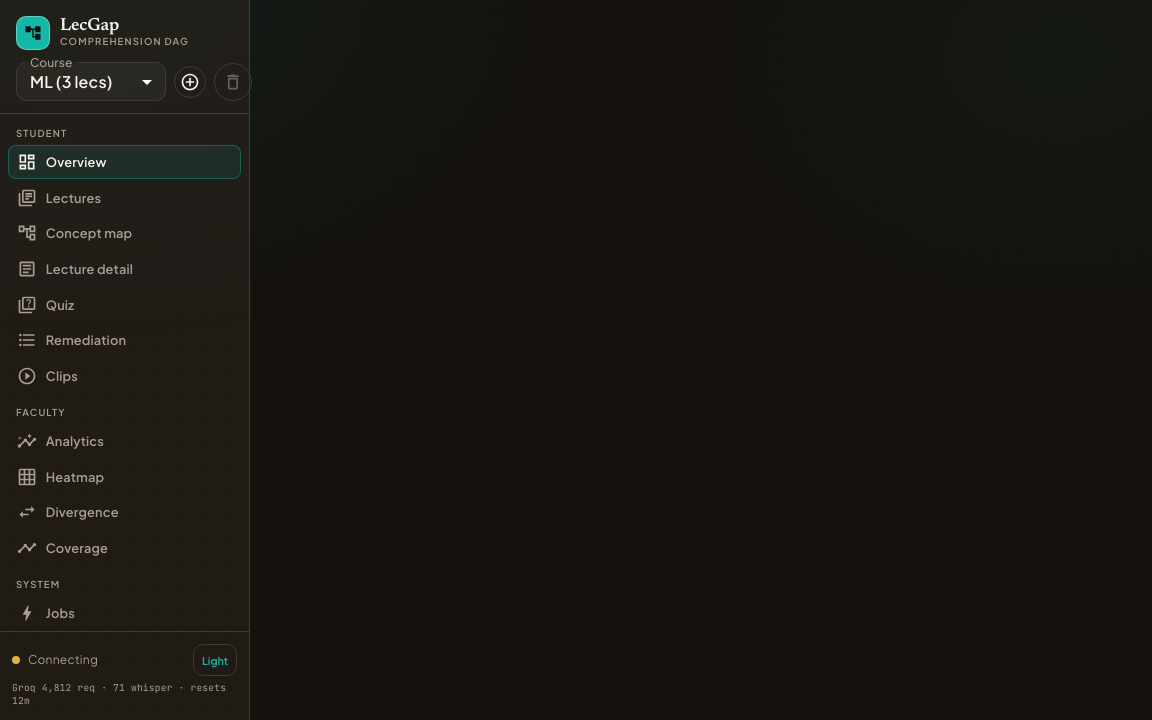
it: Sidebar › toggles the theme base from the footer
Click the button with aria-label "Switch to light theme": x=215, y=660 [193,644,237,676]
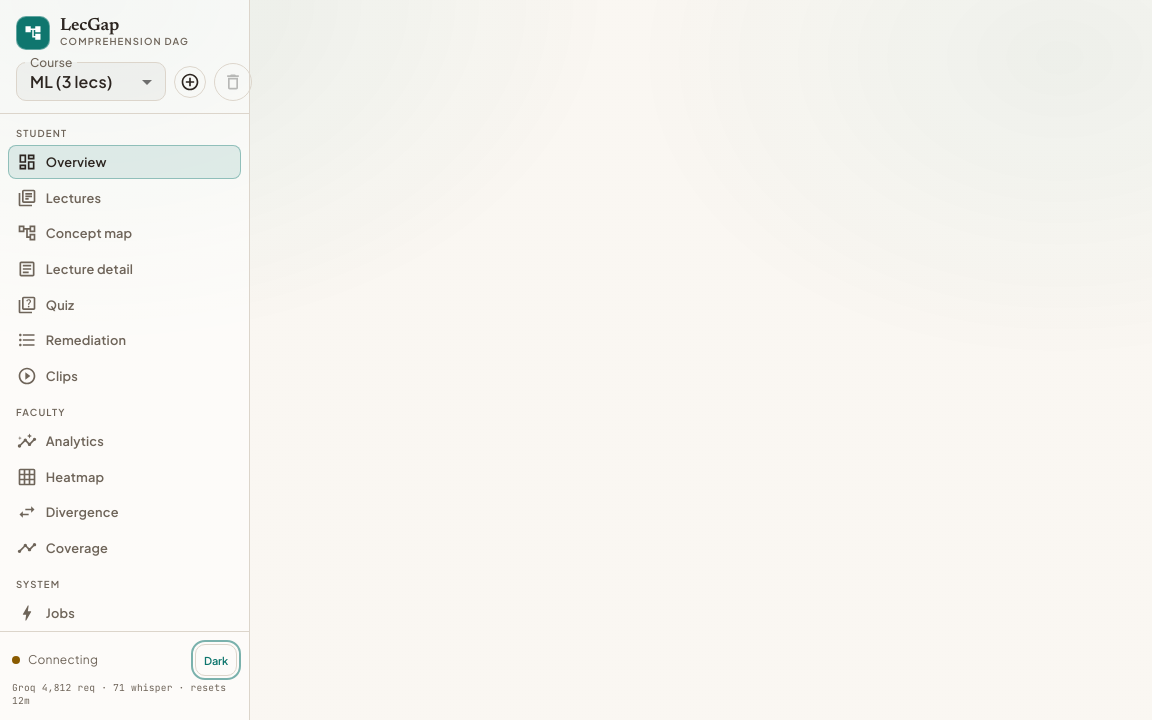
expect the button with aria-label "Switch to dark theme" is shown: met, box [195,644,237,676]
